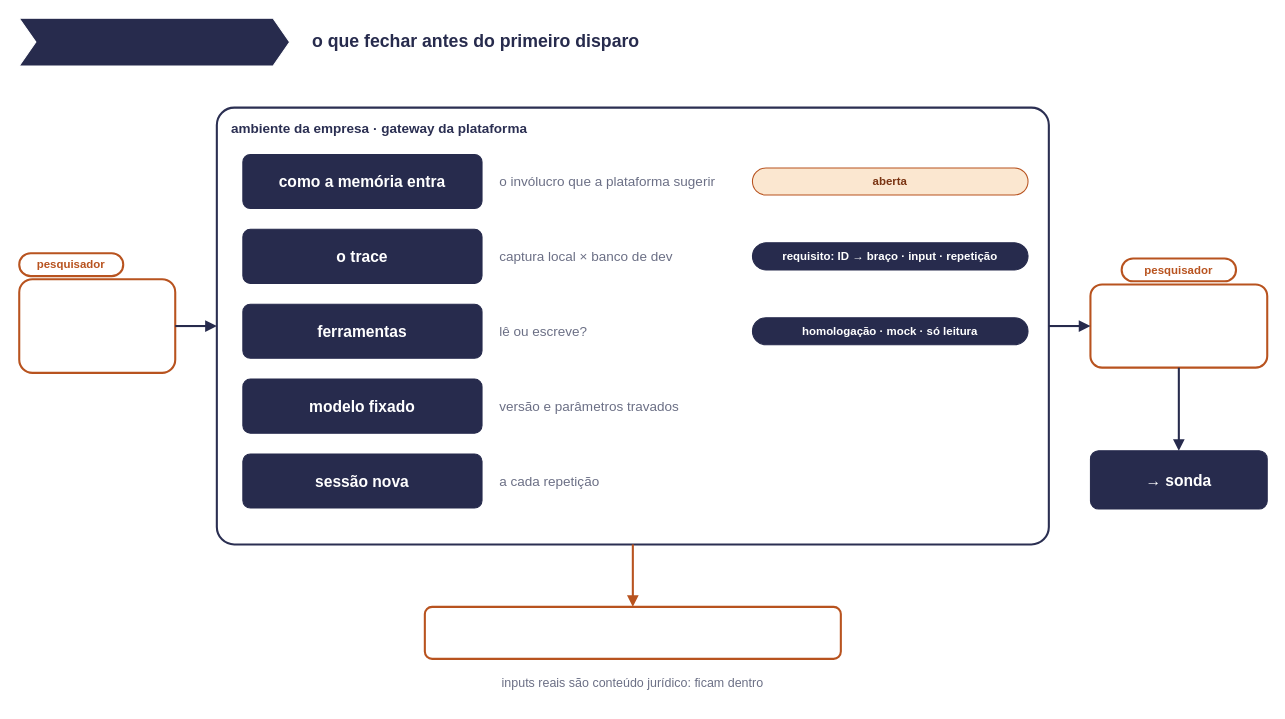
Some shapes in this 1285 by 719 pixel diagram are drawn without their labels. The centre of each missing label's shape, as x and y in pixels:
"aprovações compliance + tutor" belongs at point (1178, 325).
"leitura do código e da infra" belongs at point (97, 325).
"Preparação" belongs at point (154, 41).
"saem: contagens · hashes · nomes" belongs at point (632, 632).
